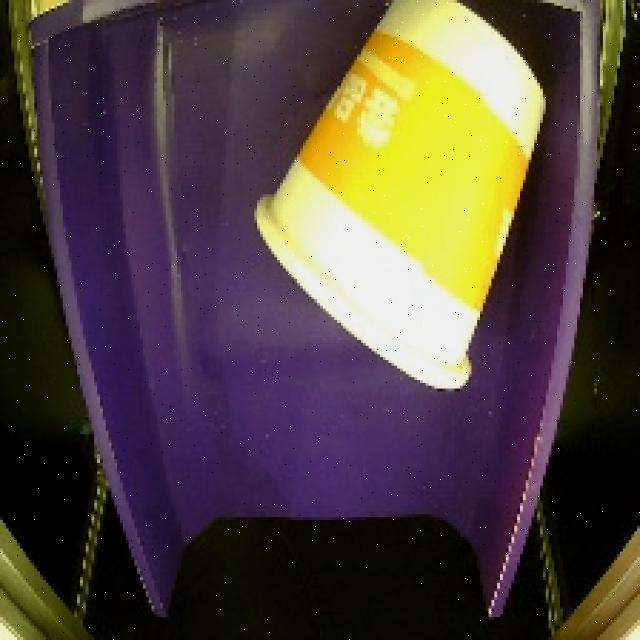cups: (245, 0, 560, 406)
